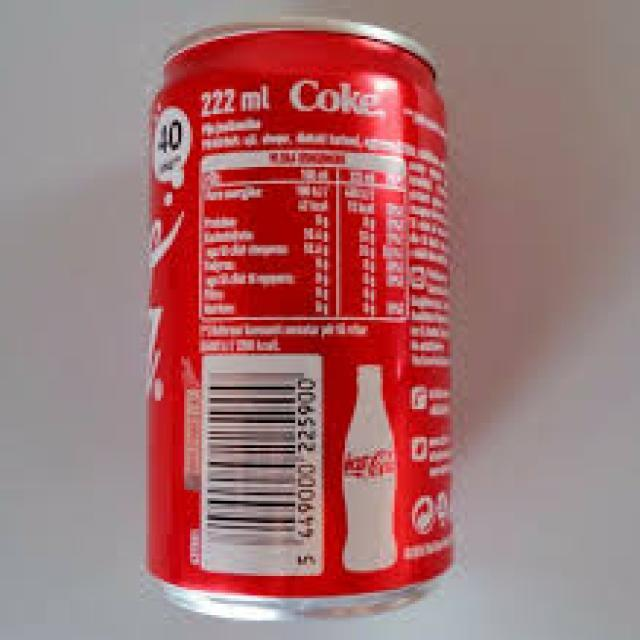can: (145, 15, 461, 625)
